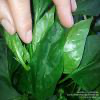Bell_pepper leaf: (36, 1, 71, 80), (7, 25, 42, 84), (0, 10, 31, 66), (44, 46, 68, 95), (76, 40, 97, 72)
